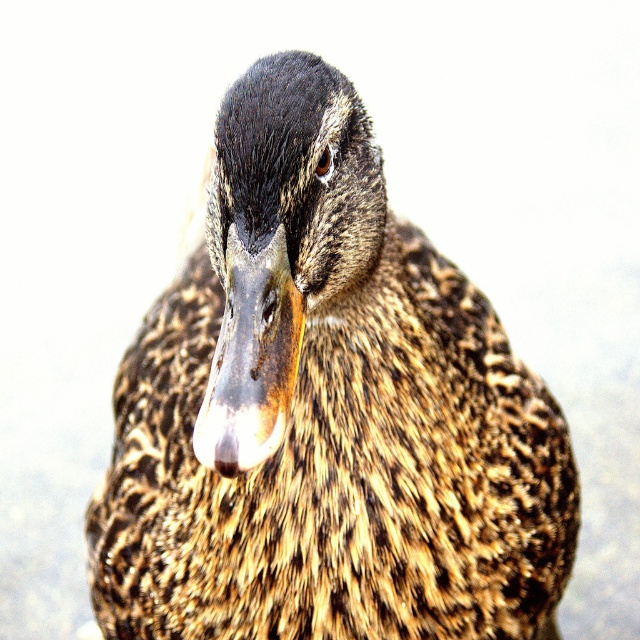Duck: (92, 64, 585, 640)
